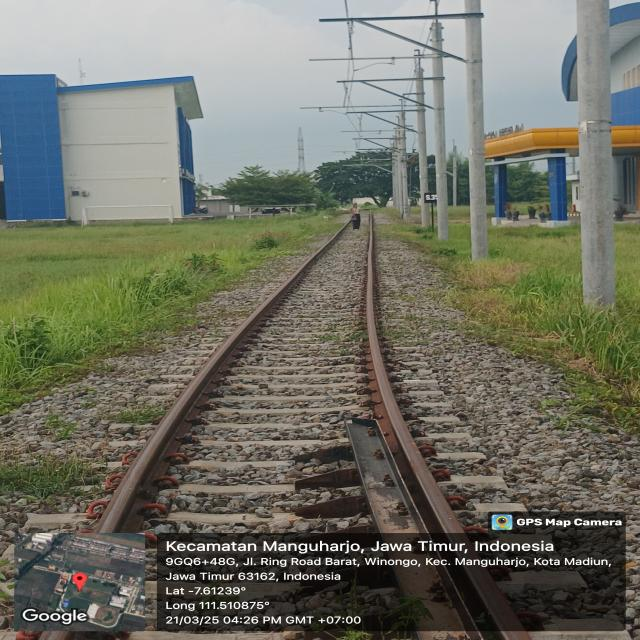rail-detection: (96, 229, 344, 531), (348, 216, 474, 555), (436, 566, 531, 640), (394, 569, 432, 596)
